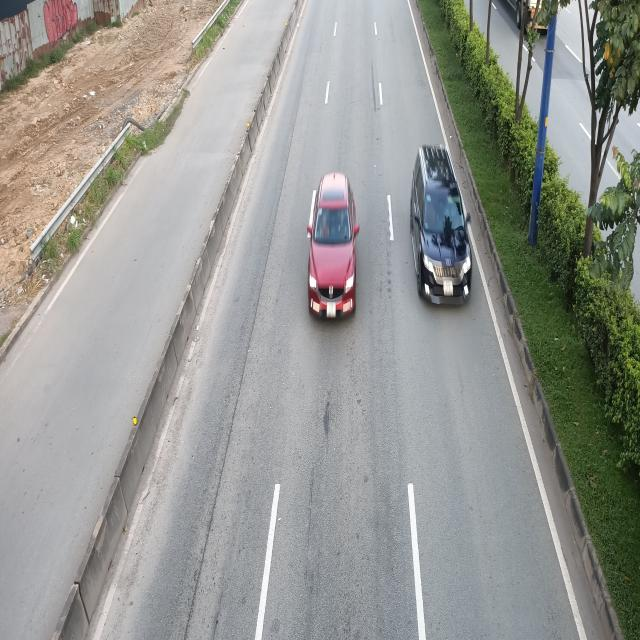car: (408, 144, 472, 303), (310, 170, 362, 318)
